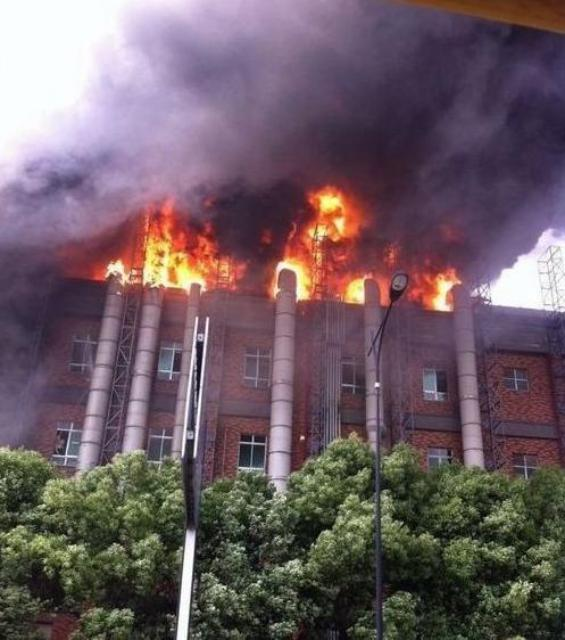fire: (142, 217, 171, 286), (309, 186, 343, 238), (172, 244, 205, 290), (427, 269, 456, 311), (289, 260, 317, 300), (210, 258, 235, 290), (342, 276, 363, 302), (106, 260, 126, 278)
